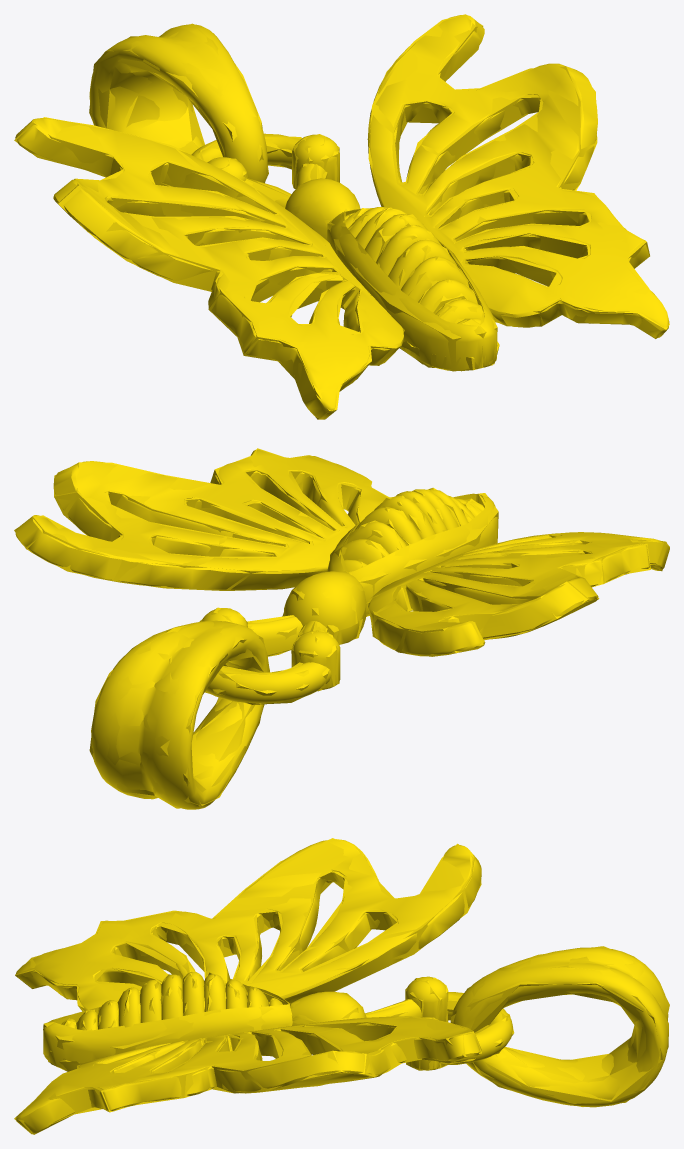
Rendered from GPN-SAD0003041.glb.
3 renders of one model, top to bottom at view 1: azimuth 30°, elevation 25°; view 2: azimuth 150°, elevation 25°; view 3: azimuth 270°, elevation 25°, orthographic. The views are drawn at different scales.
Visible parts, largest first — view 1: highPolyMesh, lowPolyMesh; view 2: highPolyMesh, lowPolyMesh; view 3: highPolyMesh, lowPolyMesh.
Boxes of the visible parts, <box> form: highPolyMesh: <box>15,15,669,419</box>; lowPolyMesh: <box>14,14,669,419</box>; highPolyMesh: <box>15,449,669,809</box>; lowPolyMesh: <box>14,448,667,808</box>; highPolyMesh: <box>16,839,668,1134</box>; lowPolyMesh: <box>14,838,669,1134</box>.
Bounding box in the file's own units: 0.0167 × 0.00537 × 0.0201.
